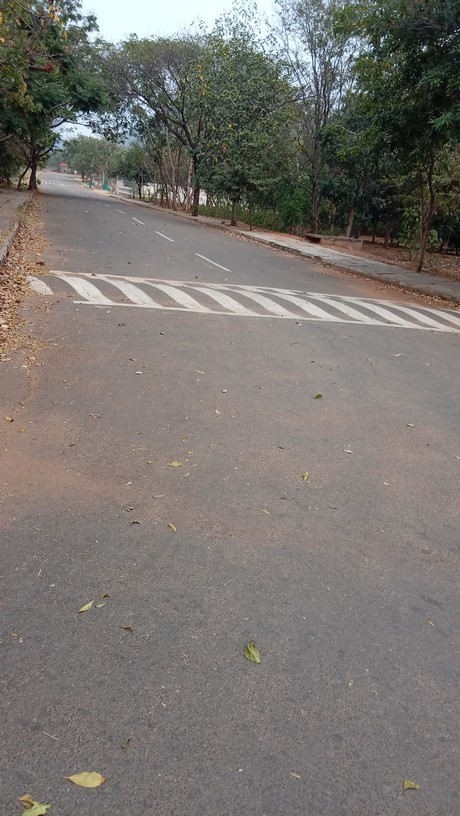bump: (19, 266, 460, 334)
